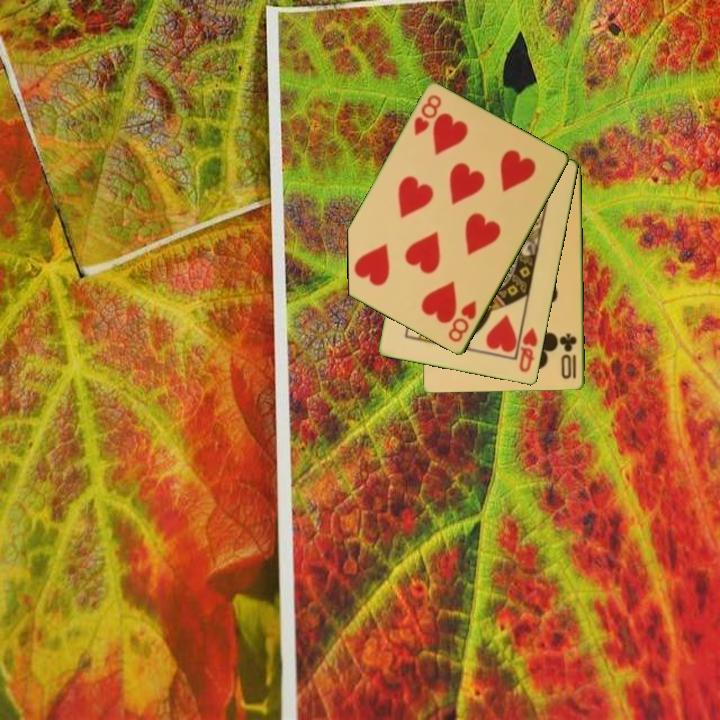10c: (558, 330, 580, 382)
8h: (444, 297, 480, 346), (410, 91, 444, 139)
Qh: (516, 324, 541, 376)
